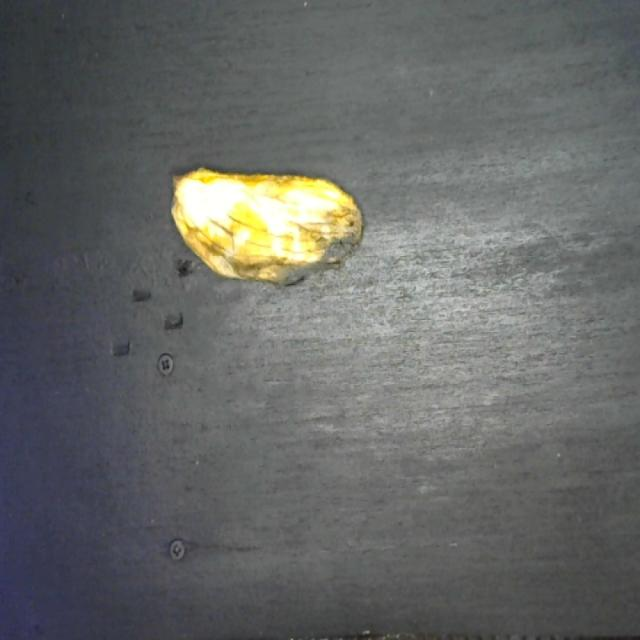biodegradable: (166, 150, 369, 292)
